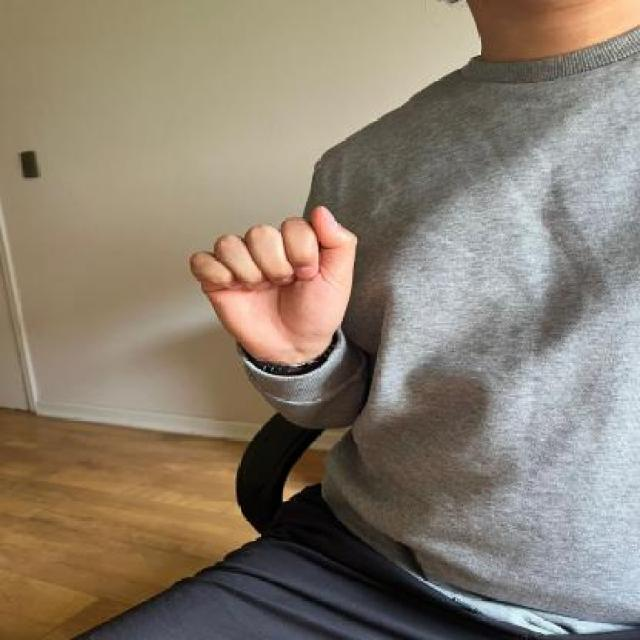A: (185, 201, 377, 361)
